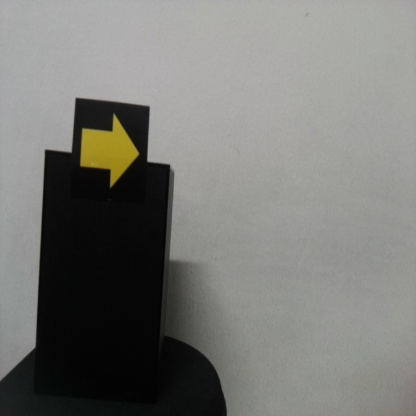id_3: (73, 100, 148, 196)
